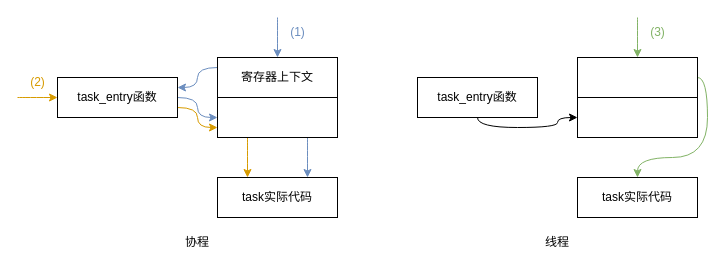
Some shapes in this 725 by 275 pixel diagram are drawn without their labels. The box of each missing label's shape, as (x1, y1, x2, y2) in pixels:
Future上下文: (576, 96, 698, 138)
Future上下文 （实际任务上下文）: (216, 96, 338, 138)
寄存器上下文 （实际任务上下文）: (576, 56, 698, 98)
